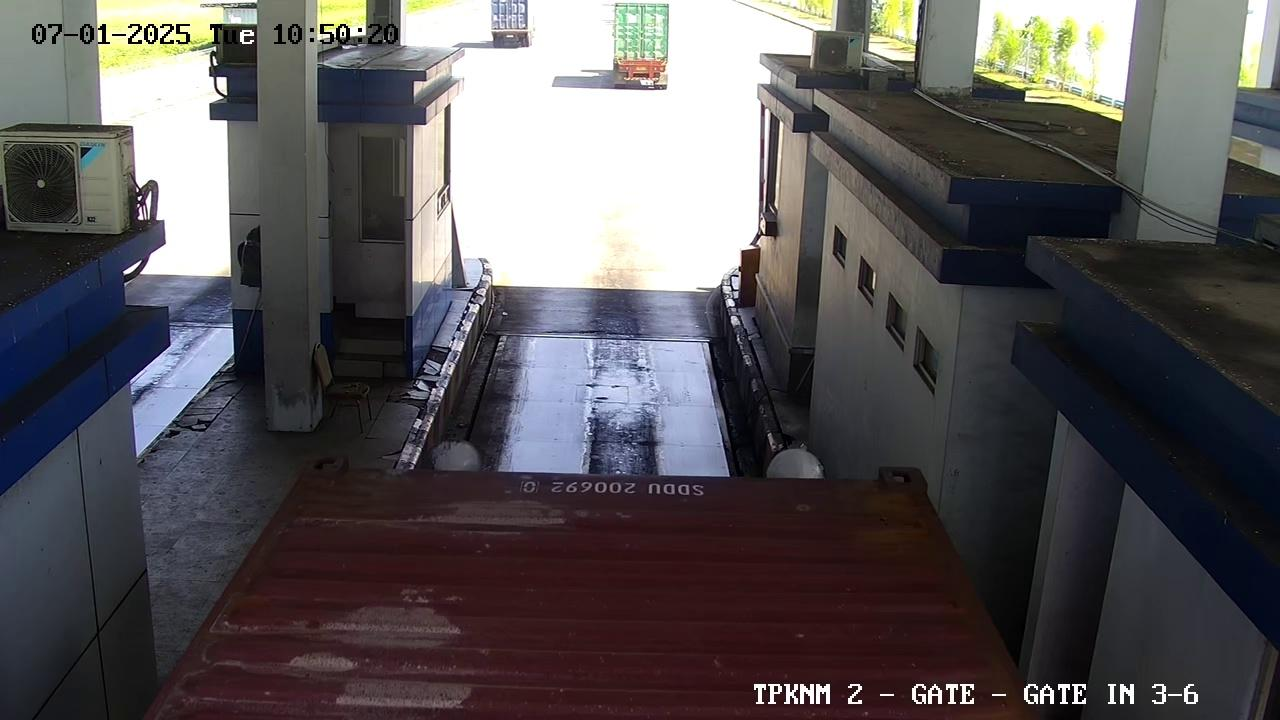Container_ID: (484, 469, 715, 505)
